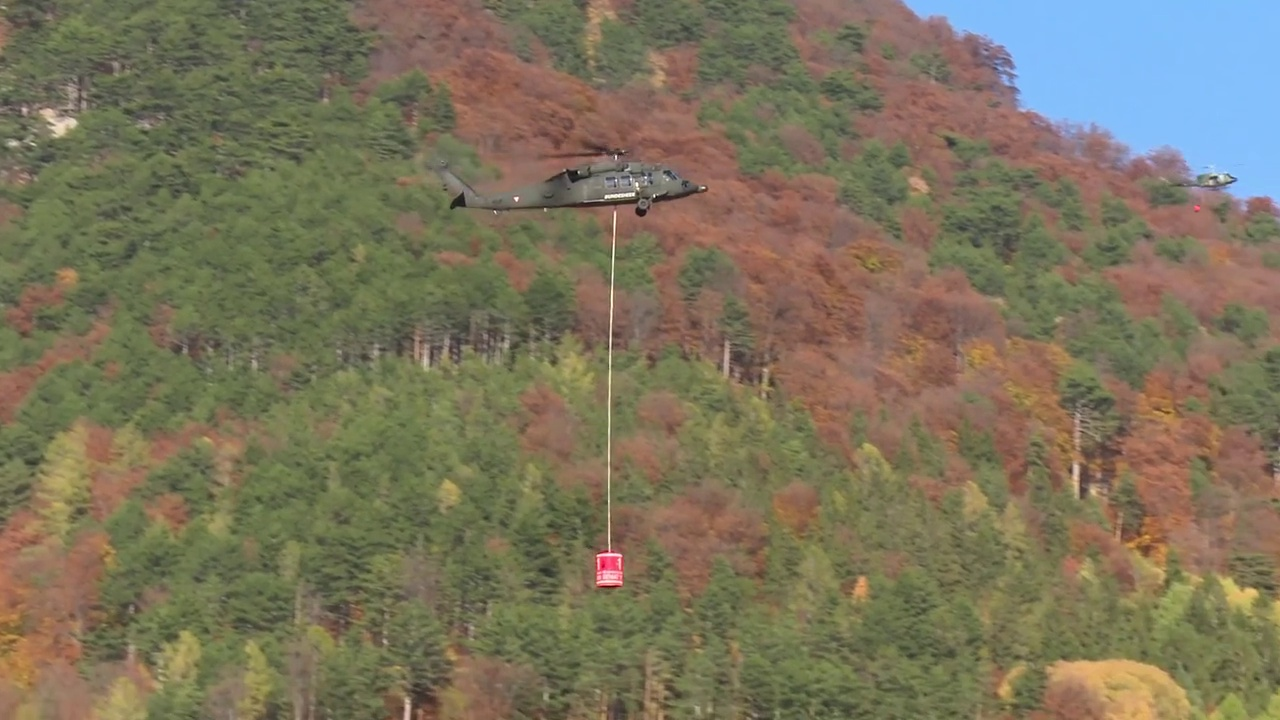heli: (444, 147, 709, 219), (1158, 162, 1238, 188)
